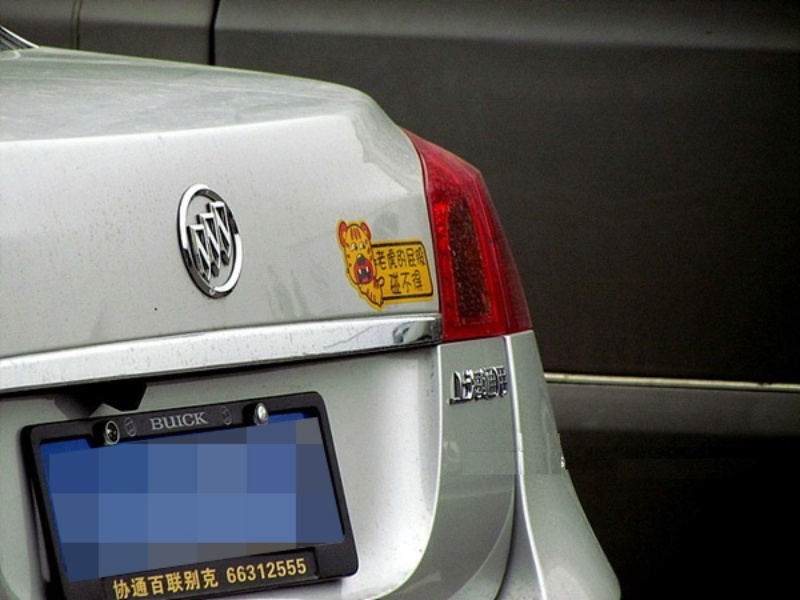text: (449, 366, 464, 406), (465, 366, 480, 406), (481, 366, 496, 406), (497, 366, 511, 406), (113, 565, 128, 599), (129, 565, 144, 599), (145, 565, 160, 599), (161, 565, 176, 599), (177, 565, 192, 599), (193, 565, 208, 599), (225, 557, 240, 589), (241, 557, 256, 589), (257, 557, 272, 589), (273, 557, 288, 589), (289, 557, 304, 589), (209, 565, 221, 599), (401, 270, 416, 295), (161, 411, 176, 434), (177, 411, 192, 434), (193, 411, 208, 434), (385, 249, 400, 271), (401, 249, 416, 271), (389, 270, 400, 295), (417, 249, 429, 271), (149, 411, 160, 434), (417, 270, 425, 295), (443, 366, 448, 406), (375, 249, 384, 271), (305, 557, 310, 589), (111, 565, 112, 599), (223, 557, 224, 589), (209, 411, 210, 434)
